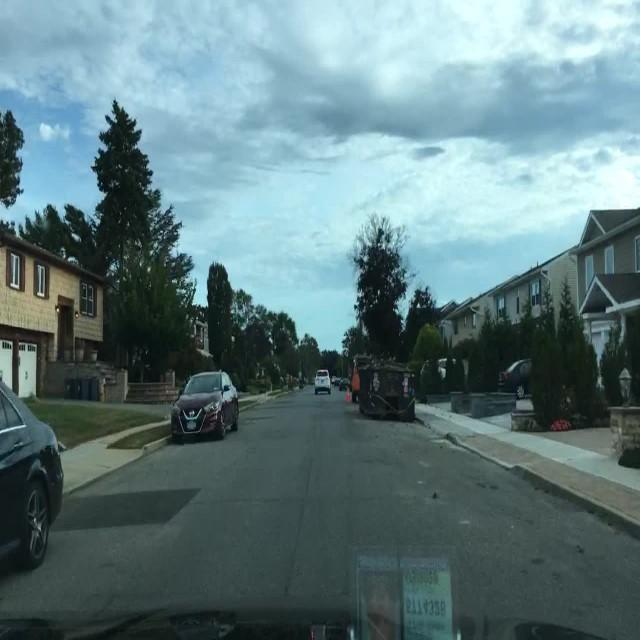normal: (166, 367, 245, 448)
